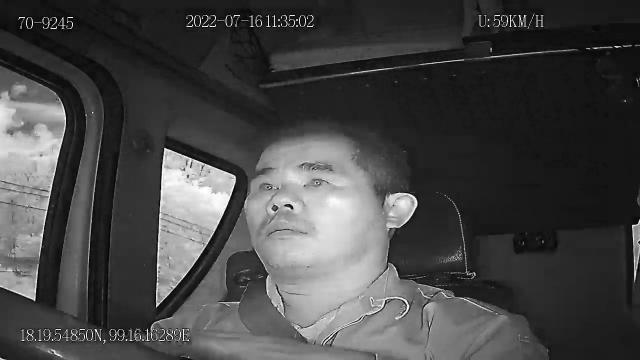SafeDriving: (294, 162, 338, 193), (252, 173, 284, 196)
Seatbelt: (231, 274, 311, 348)
